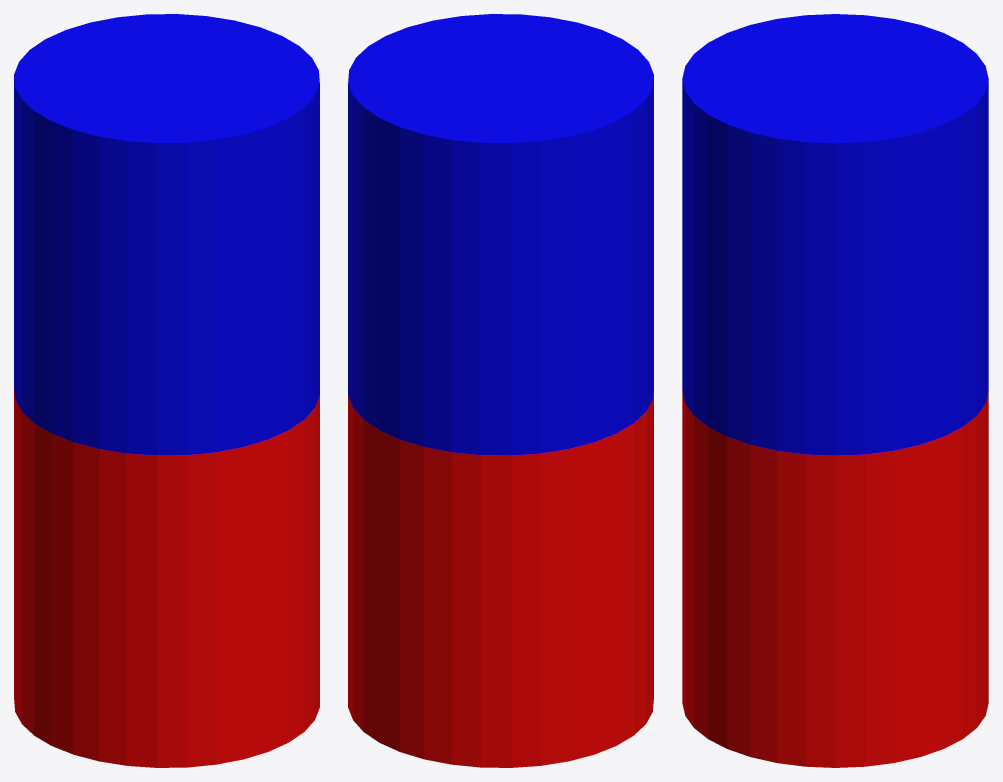
The model's file is beacon2.obj.
3 renders of one model, left to right at view 1: azimuth 30°, elevation 25°; view 2: azimuth 150°, elevation 25°; view 3: azimuth 270°, elevation 25°, orthographic.
Visible parts, largest first — view 1: beacon2; view 2: beacon2; view 3: beacon2.
Part boxes in pixels (bbox=[...]): beacon2: bbox=[14, 14, 319, 767]; beacon2: bbox=[348, 14, 653, 767]; beacon2: bbox=[682, 14, 988, 767].
Bounding box in the file's own units: 0.2 × 0.45 × 0.2.
1 material, 1 textured.
